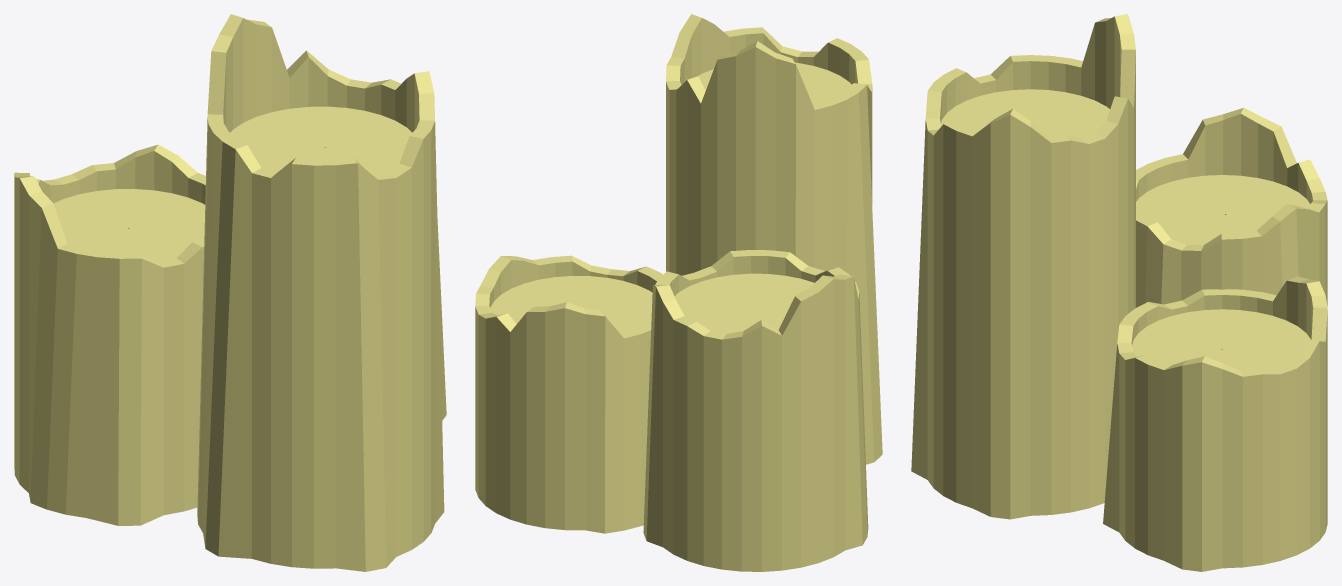
The model's file is GraveCnadleGroup.fbx.
The picture shows the model from 3 angles, left to right: view 1: azimuth 30°, elevation 25°; view 2: azimuth 150°, elevation 25°; view 3: azimuth 270°, elevation 25°; orthographic projection. The views are drawn at different scales.
Visible parts, largest first — view 1: Cylinder.001; view 2: Cylinder.001; view 3: Cylinder.001.
Part boxes in pixels (x1=…): Cylinder.001: x1=14, y1=14, x2=446, y2=571; Cylinder.001: x1=475, y1=14, x2=882, y2=571; Cylinder.001: x1=911, y1=14, x2=1327, y2=571.
Bounding box in the file's own units: 415 × 467 × 396.
1 material, 1 textured.
